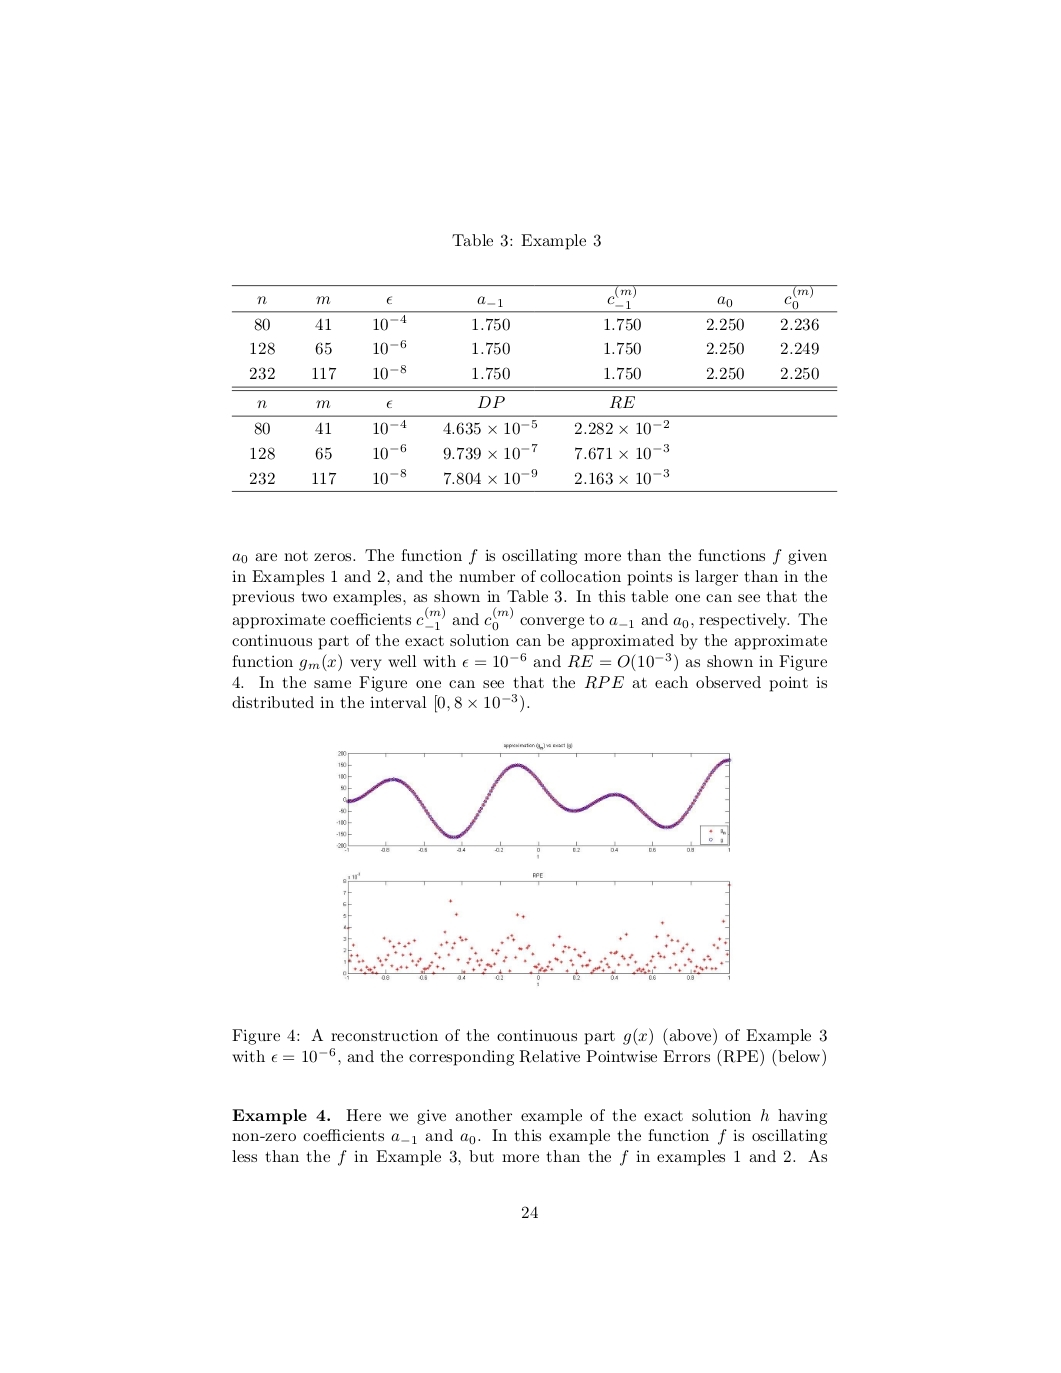Table: (231, 285, 837, 491)
figure: (335, 742, 731, 853), (343, 871, 731, 980)
